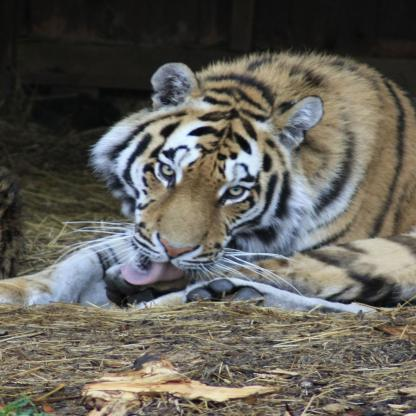tiger: (116, 66, 311, 274)
